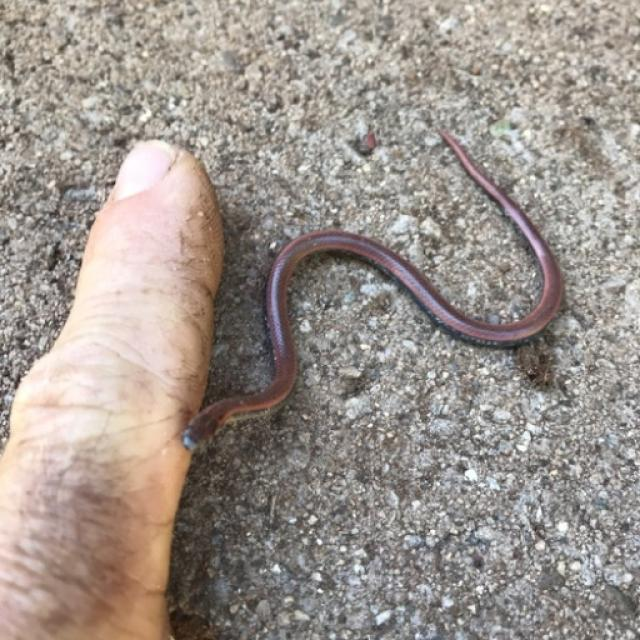snake: (179, 158, 576, 446)
